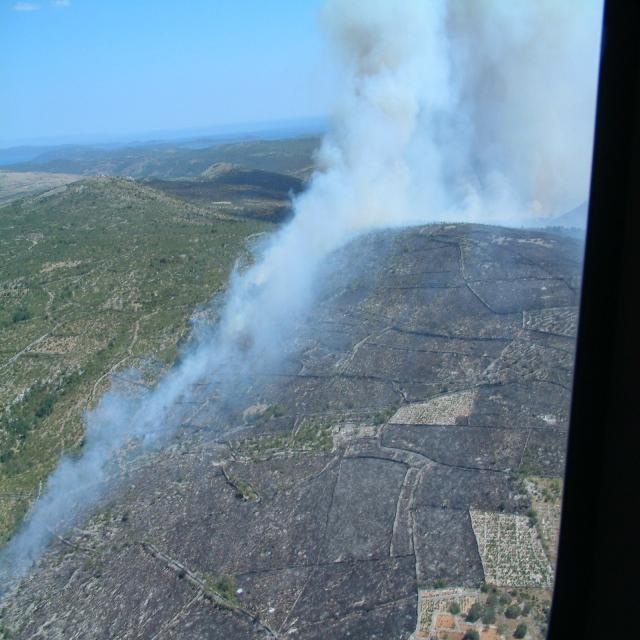Smoke: (0, 0, 604, 592)
